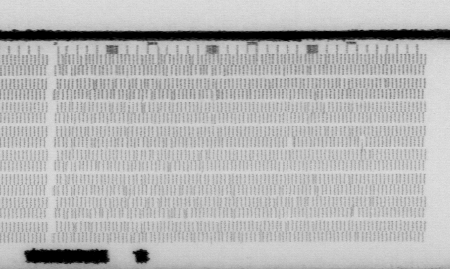Broken hole: (285, 137, 298, 149)
Oblique printing: (49, 133, 198, 246), (50, 52, 229, 100), (53, 99, 156, 124), (242, 87, 359, 101), (208, 221, 266, 245), (217, 175, 243, 219), (259, 197, 299, 218), (307, 171, 325, 196), (365, 185, 383, 209), (300, 63, 315, 77), (211, 125, 225, 140), (318, 101, 333, 114), (357, 135, 370, 149), (342, 173, 356, 186), (379, 77, 392, 90), (279, 218, 291, 232), (350, 206, 362, 220), (349, 232, 361, 243), (211, 112, 222, 124)
